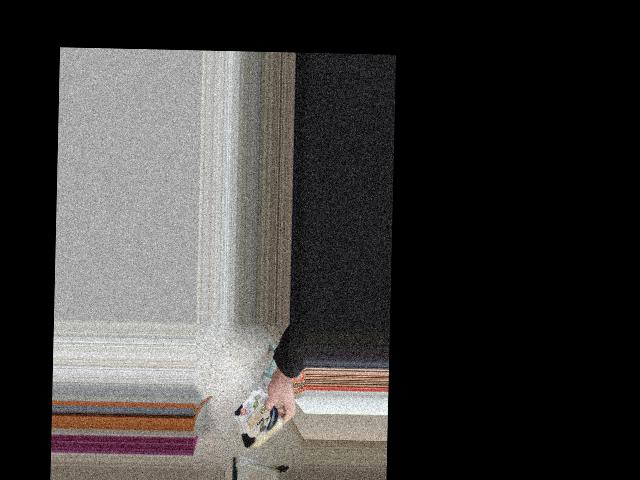cheese: (226, 392, 301, 449)
